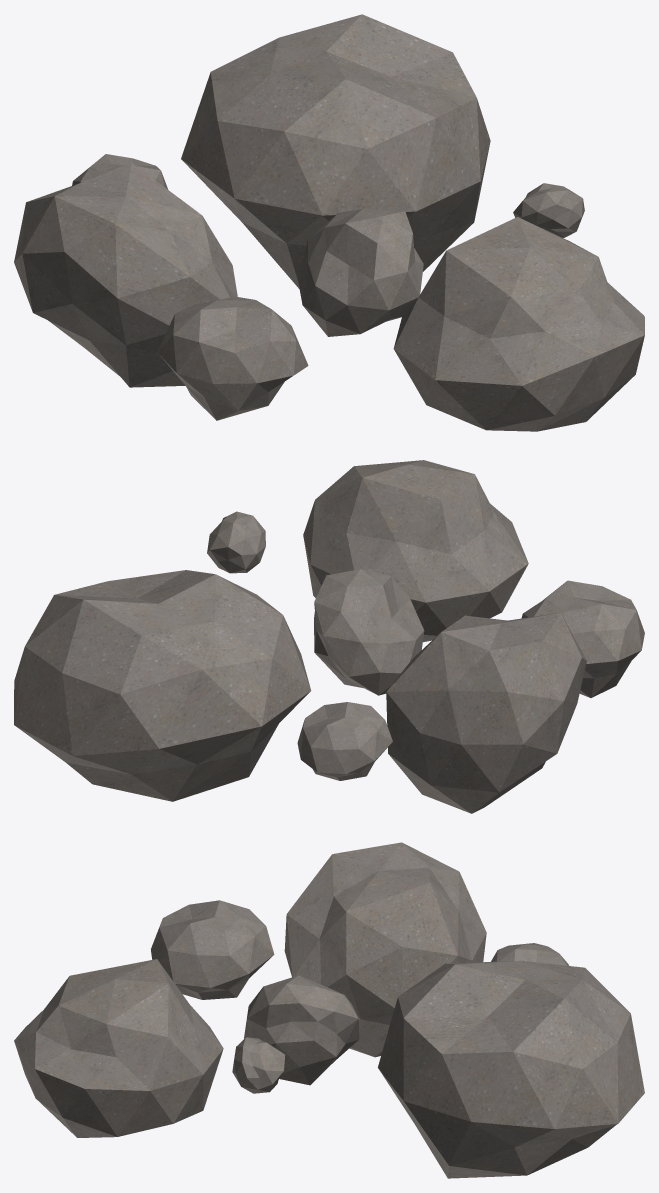
File: rocks.glb
3 renders of one model, top to bottom at view 1: azimuth 30°, elevation 25°; view 2: azimuth 150°, elevation 25°; view 3: azimuth 270°, elevation 25°, orthographic. The views are drawn at different scales.
Parts seen in each view (by area): view 1: Icosphere.003, Icosphere.002, Icosphere.004, Icosphere.001, Icosphere, Icosphere.005, Icosphere.006; view 2: Icosphere.003, Icosphere.004, Icosphere.002, Icosphere.001, Icosphere, Icosphere.006, Icosphere.005; view 3: Icosphere.003, Icosphere.002, Icosphere.004, Icosphere, Icosphere.001, Icosphere.005, Icosphere.006.
Part boxes in pixels (box(x1,y1,x2,y2)): Icosphere.003: box(181, 14, 490, 288); Icosphere.002: box(393, 217, 644, 431); Icosphere.004: box(14, 162, 237, 387); Icosphere.001: box(298, 208, 423, 336); Icosphere: box(157, 296, 308, 420); Icosphere.005: box(513, 183, 584, 237); Icosphere.006: box(72, 154, 168, 189); Icosphere.003: box(14, 570, 311, 801); Icosphere.004: box(386, 612, 586, 813); Icosphere.002: box(303, 460, 528, 642); Icosphere.001: box(314, 569, 424, 695); Icosphere: box(521, 580, 644, 697); Icosphere.006: box(297, 702, 392, 780); Icosphere.005: box(207, 511, 265, 573); Icosphere.003: box(378, 960, 644, 1178); Icosphere.002: box(14, 959, 223, 1137); Icosphere.004: box(284, 842, 486, 1057); Icosphere: box(151, 900, 274, 999); Icosphere.001: box(244, 975, 359, 1085); Icosphere.005: box(232, 1037, 285, 1093); Icosphere.006: box(491, 943, 569, 965).
Size of the model in its own units: 1.79 by 0.7307 by 2.21.
1 material, 1 textured.
